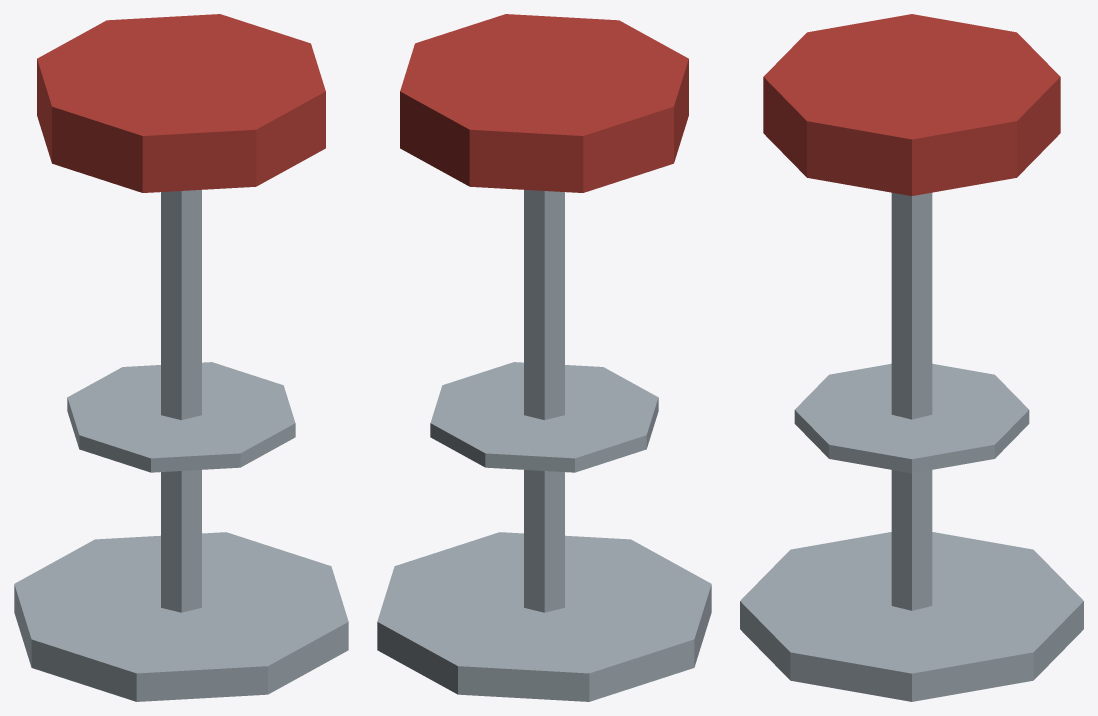
Rendered from GH_BarStool_01.glb.
The picture shows the model from 3 angles, left to right: view 1: azimuth 30°, elevation 25°; view 2: azimuth 150°, elevation 25°; view 3: azimuth 270°, elevation 25°; orthographic projection.
Visible parts, largest first — view 1: GH_BarStool_01; view 2: GH_BarStool_01; view 3: GH_BarStool_01.
Part boxes in pixels (bbox=[...]): GH_BarStool_01: bbox=[14, 14, 348, 701]; GH_BarStool_01: bbox=[377, 14, 711, 701]; GH_BarStool_01: bbox=[740, 14, 1083, 701].
Bounding box in the file's own units: 0.44 × 0.78 × 0.44.
Materials: 1 (1 with a texture image).
